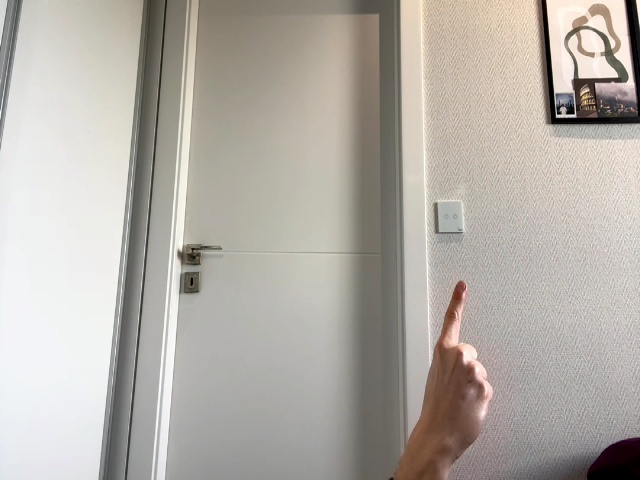D: (422, 281, 493, 448)
